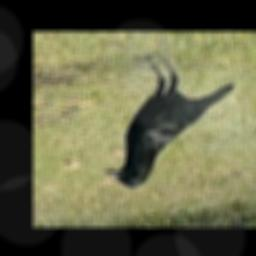Crow: (102, 53, 235, 189)
